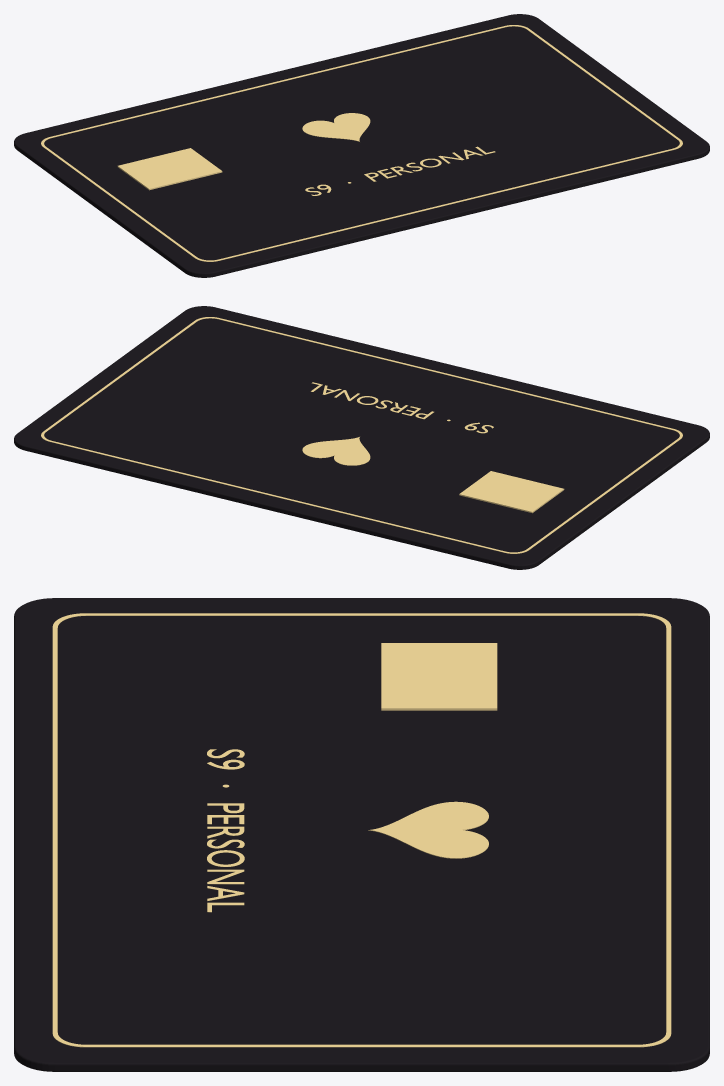
The model's file is karte-C2z0N7d4.glb.
3 views of the same model, one above another, from view 1: azimuth 30°, elevation 25°; view 2: azimuth 150°, elevation 25°; view 3: azimuth 270°, elevation 25° (orthographic). The views are drawn at different scales.
Parts seen in each view (by area): view 1: Karte; view 2: Karte; view 3: Karte.
Part boxes in pixels (x1=…): Karte: x1=14, y1=14, x2=709, y2=277; Karte: x1=14, y1=306, x2=709, y2=569; Karte: x1=14, y1=598, x2=709, y2=1071.
Size of the model in its own units: 0.0856 by 0.00096 by 0.054.
